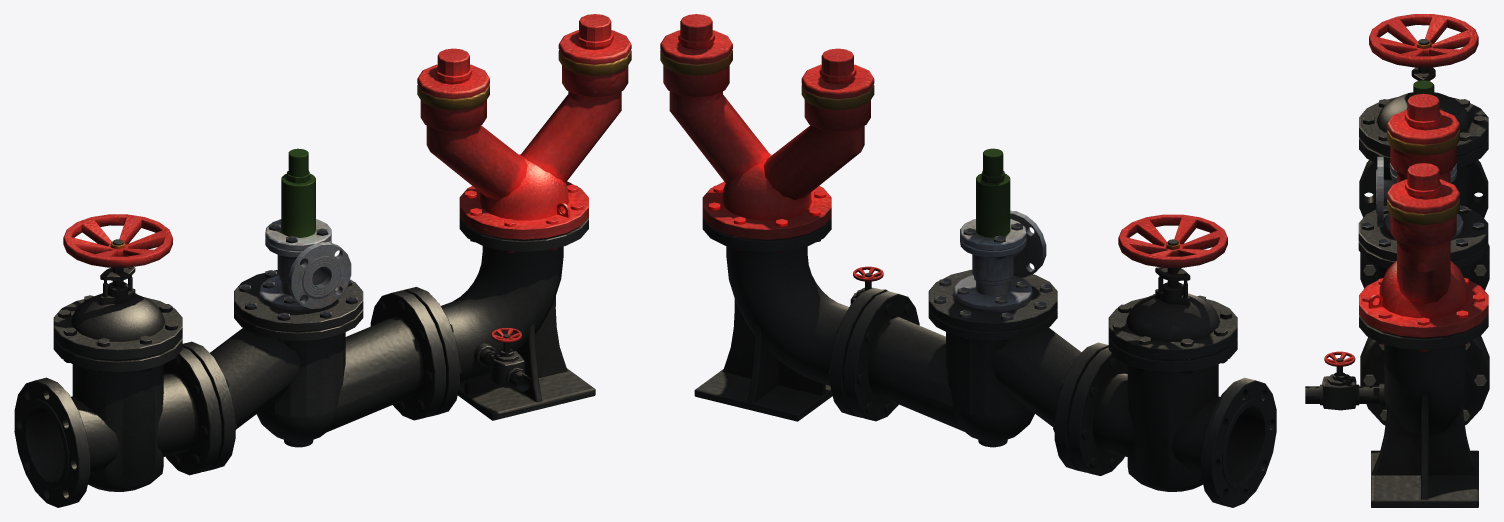
Rendered from jieheqi.FBX.
3 views of the same model, side by side, from view 1: azimuth 30°, elevation 25°; view 2: azimuth 150°, elevation 25°; view 3: azimuth 270°, elevation 25° (orthographic).
Visible parts, largest first — view 1: Line003, Sphere004, Cylinder006, Object001; view 2: Line003, Sphere004, Cylinder006, Object001; view 3: Line003, Cylinder006, Sphere004, Object001.
Part boxes in pixels (box(x1,y1,x2,y2)): Line003: box(403, 14, 631, 420); Sphere004: box(182, 148, 446, 471); Cylinder006: box(14, 214, 221, 507); Object001: box(58, 293, 461, 468); Line003: box(660, 14, 888, 421); Sphere004: box(844, 148, 1108, 472); Cylinder006: box(1068, 214, 1276, 507); Object001: box(828, 294, 1227, 469); Line003: box(1305, 93, 1489, 507); Cylinder006: box(1359, 14, 1489, 252); Sphere004: box(1358, 80, 1489, 362); Object001: box(1363, 99, 1487, 421).
Size of the model in its own units: 830 by 478 by 227.
Materials: 3 (3 with a texture image).
